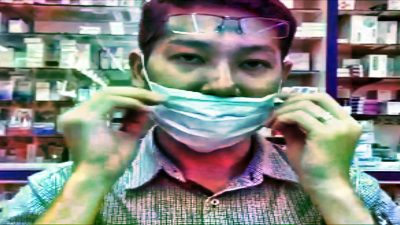mask_weared_incorrect: (145, 37, 286, 154)
